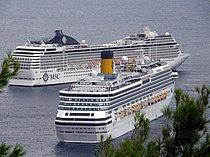Ship: (52, 55, 184, 147)
